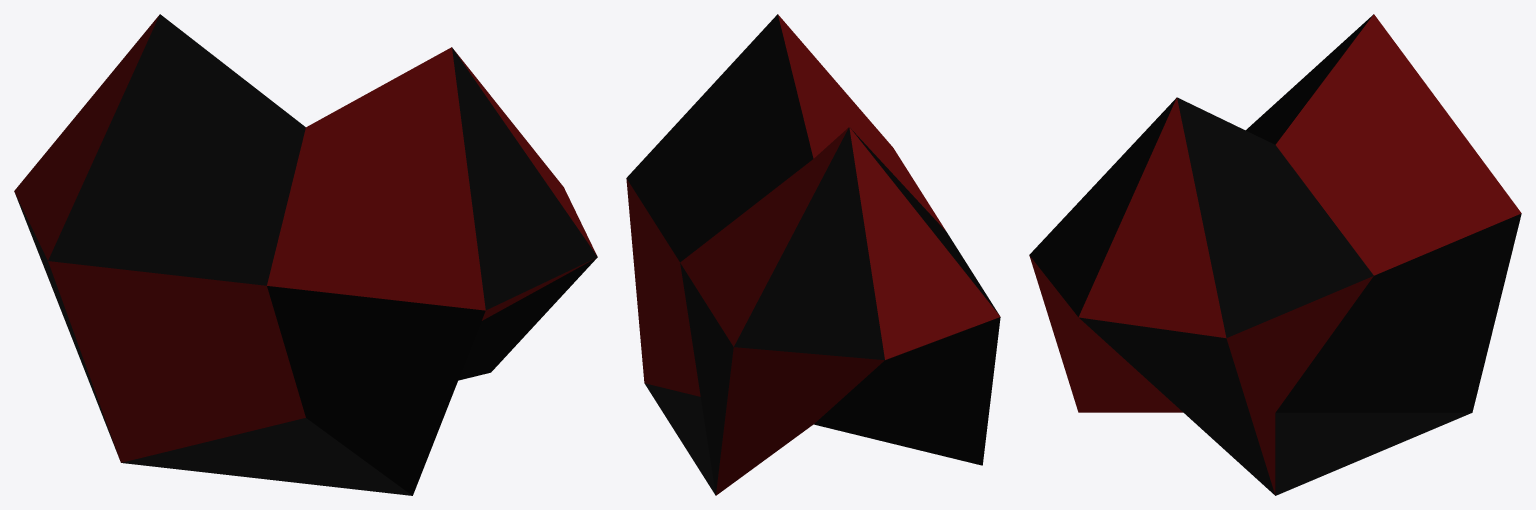
Rendered from skin_9_1_model.fbx.
3 renders of one model, left to right at view 1: azimuth 30°, elevation 25°; view 2: azimuth 150°, elevation 25°; view 3: azimuth 270°, elevation 25°, orthographic. The views are drawn at different scales.
Parts seen in each view (by area): view 1: Cube; view 2: Cube; view 3: Cube.
Boxes of the visible parts, x1,y1,x2,y2 form: Cube: [14, 14, 597, 495]; Cube: [626, 14, 1000, 495]; Cube: [1029, 14, 1521, 495].
Size of the model in its own units: 250 by 200 by 250.
